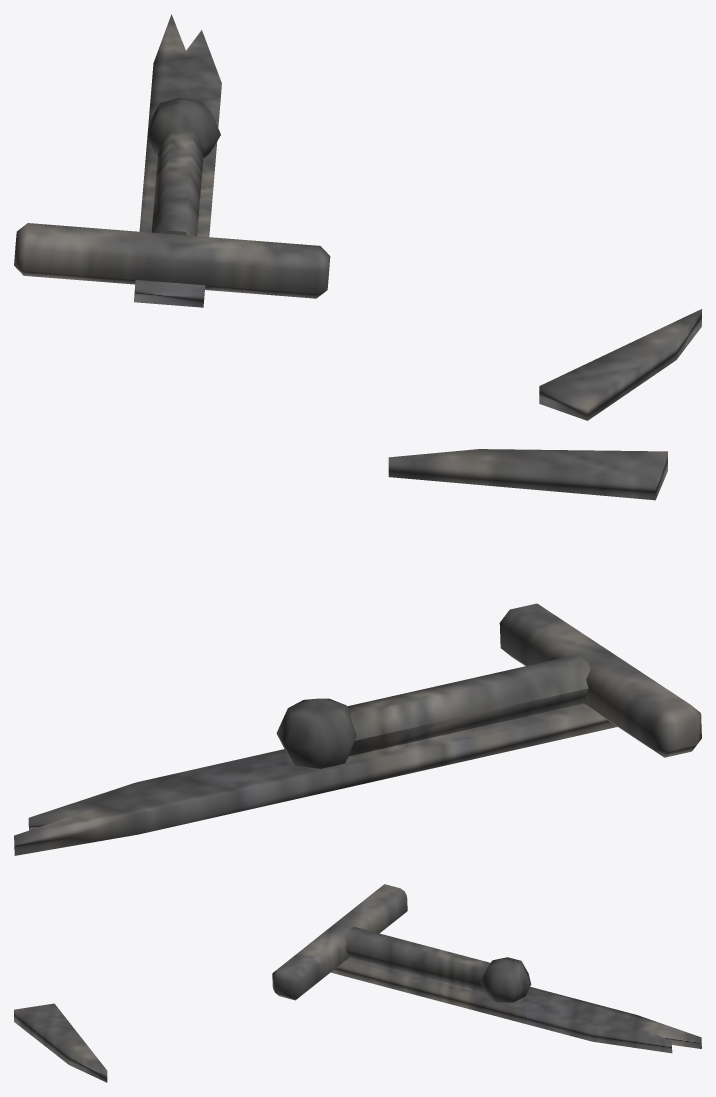
File: item_broken_blade.glb
3 views of the same model, one above another, from view 1: azimuth 30°, elevation 25°; view 2: azimuth 150°, elevation 25°; view 3: azimuth 270°, elevation 25° (orthographic). The views are drawn at different scales.
Visible parts, largest first — view 1: item_broken_blade; view 2: item_broken_blade; view 3: item_broken_blade.
Boxes of the visible parts, box(x1,y1,x2,y2) form: item_broken_blade: box(14, 14, 701, 420); item_broken_blade: box(14, 449, 701, 855); item_broken_blade: box(14, 884, 701, 1082).
Bounding box in the file's own units: 0.6216 × 0.0875 × 1.12.
Materials: 1 (1 with a texture image).
